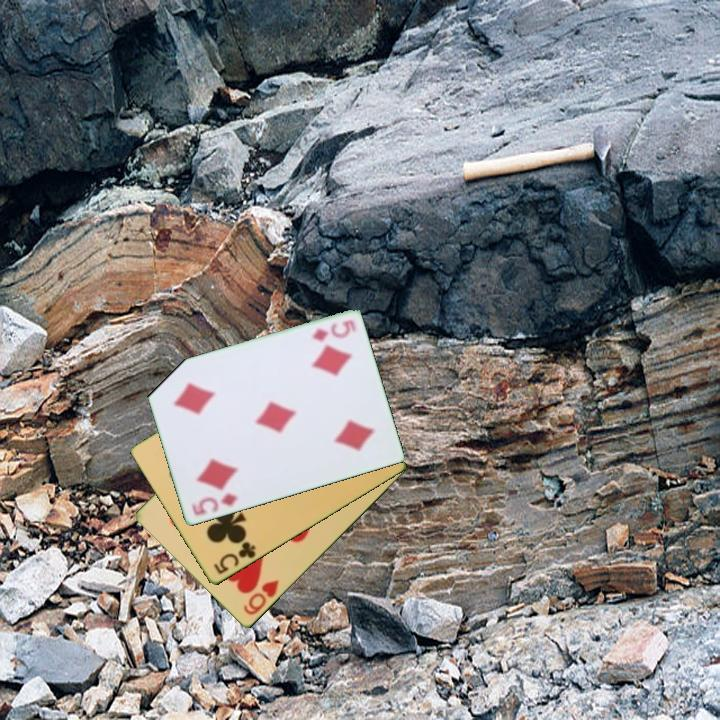5c: (210, 538, 259, 578)
5d: (188, 490, 240, 519), (309, 316, 358, 345)
6h: (240, 577, 282, 618)
